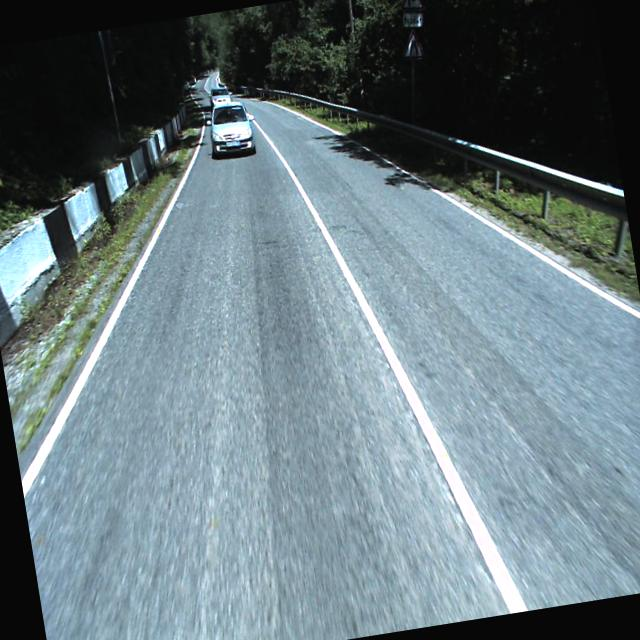road: (19, 95, 640, 640), (191, 72, 218, 118)
